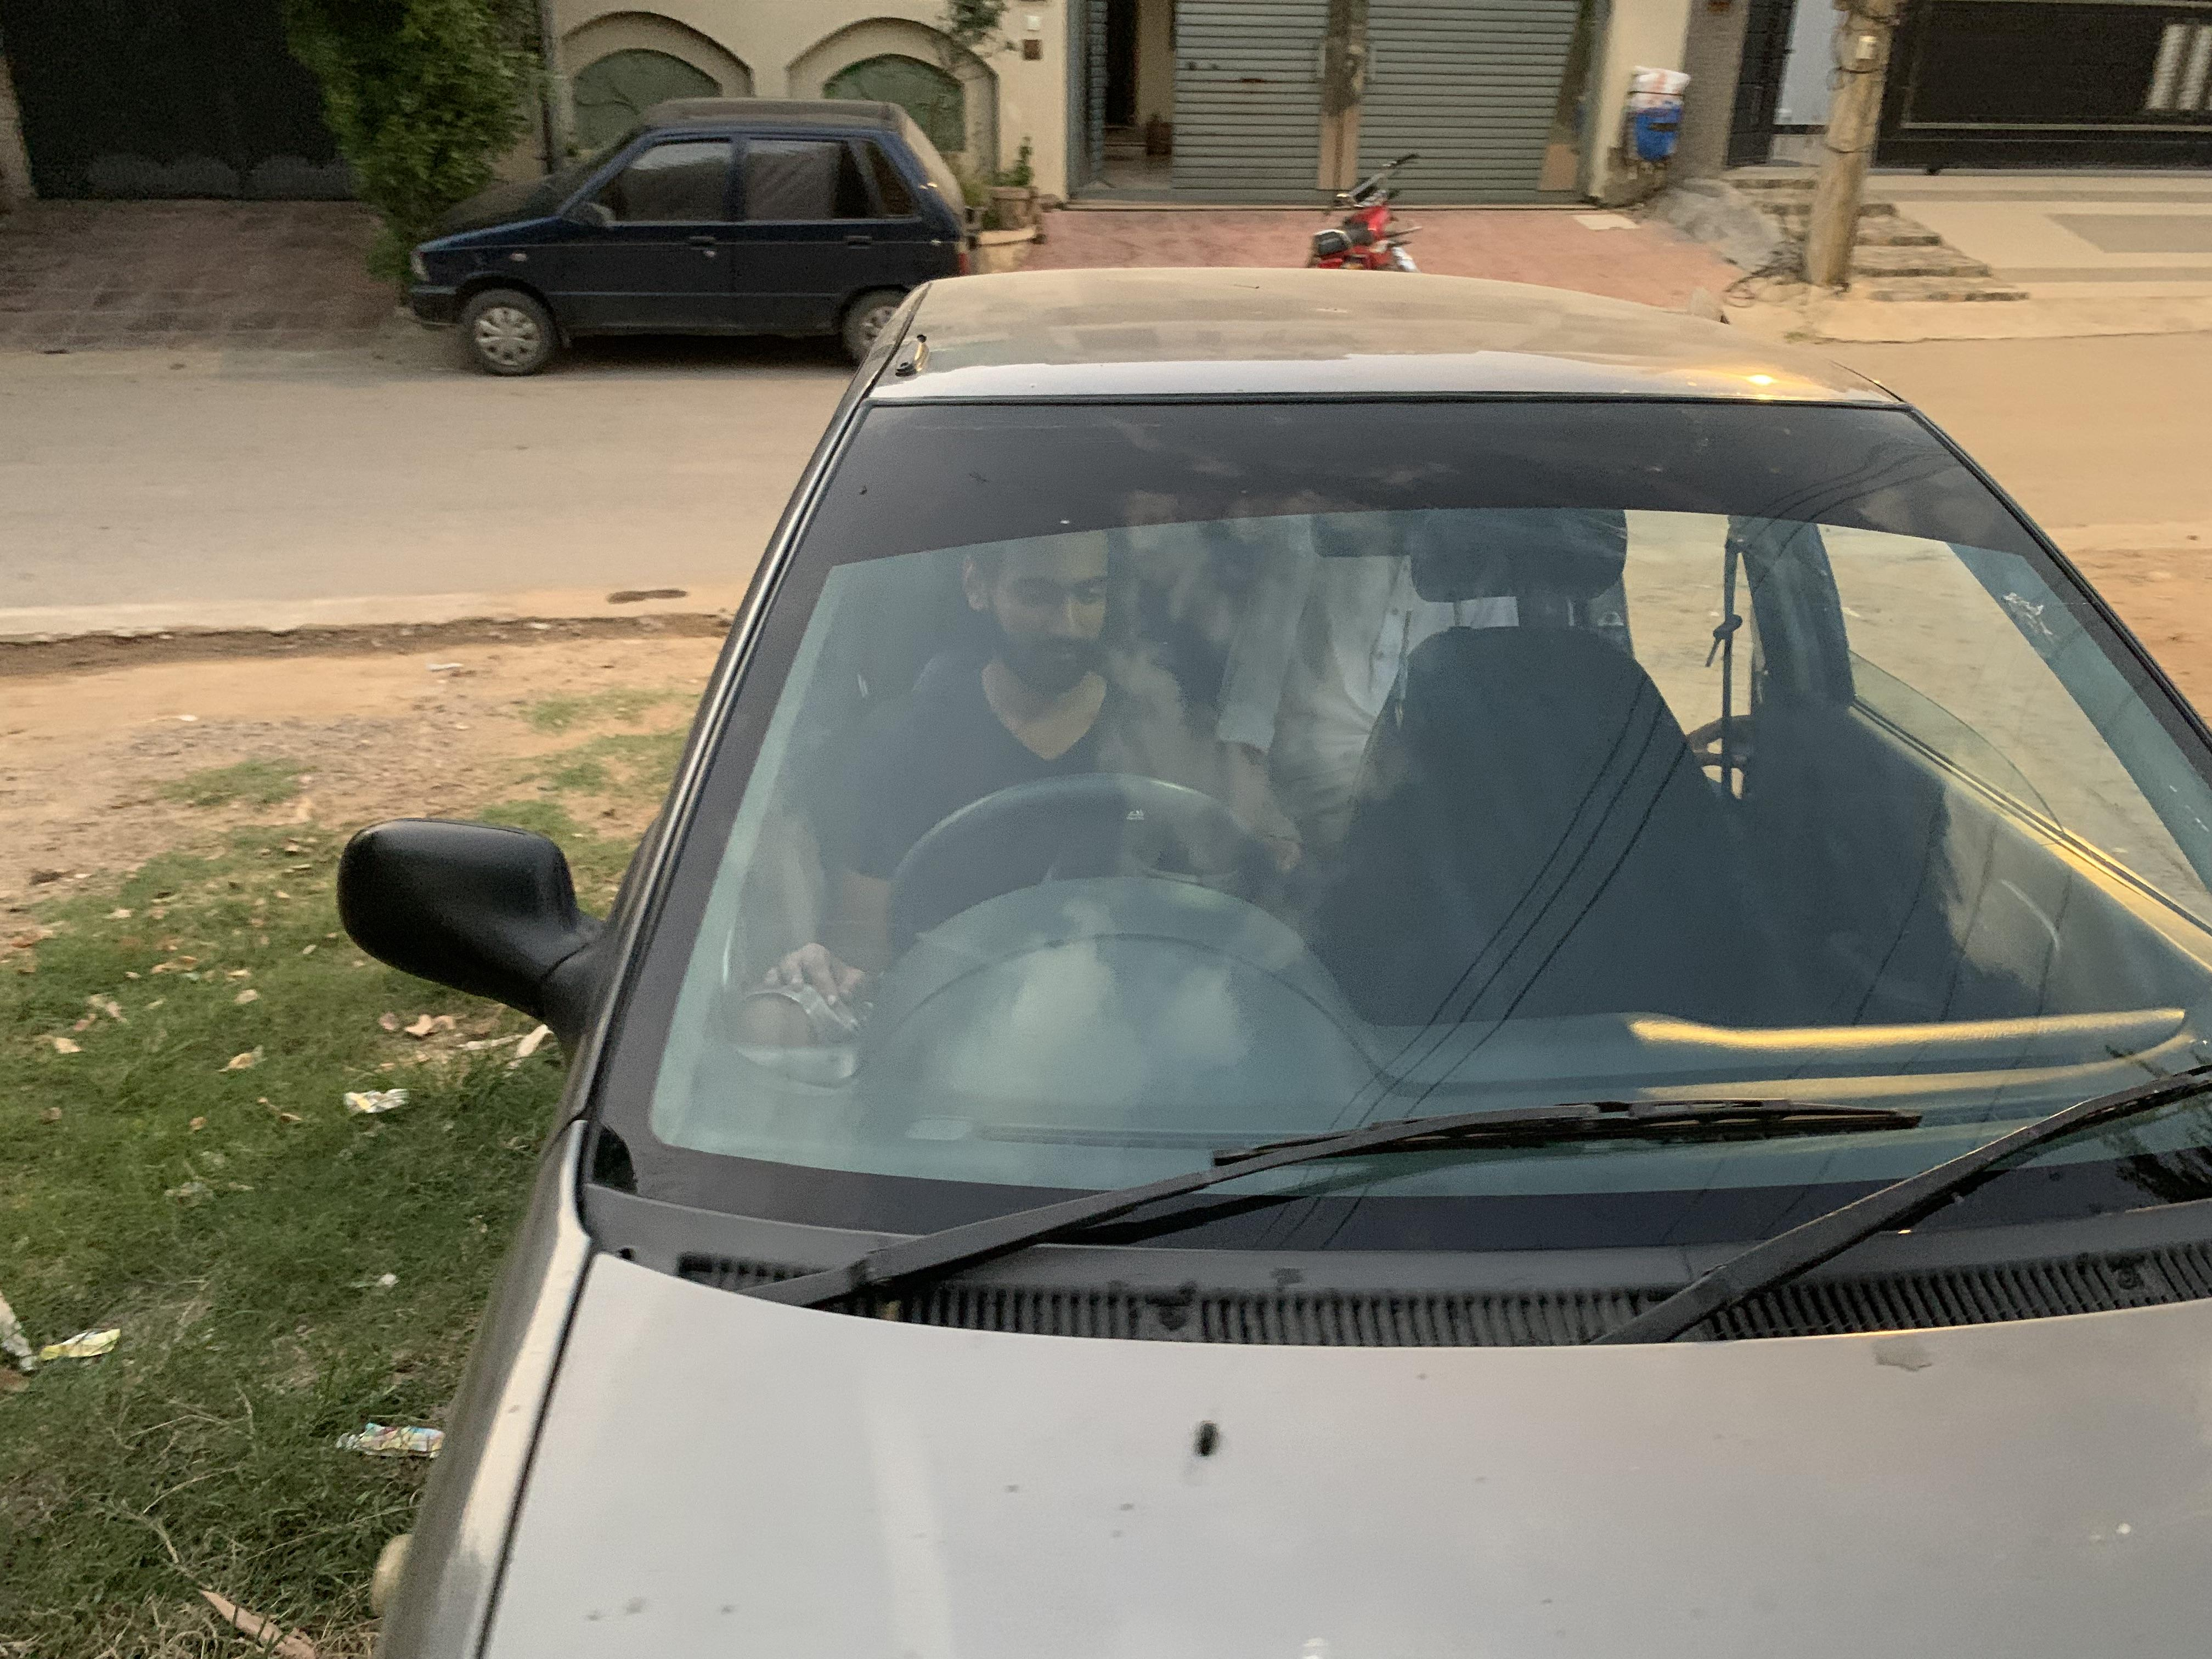windshield: (561, 362, 2207, 1349)
